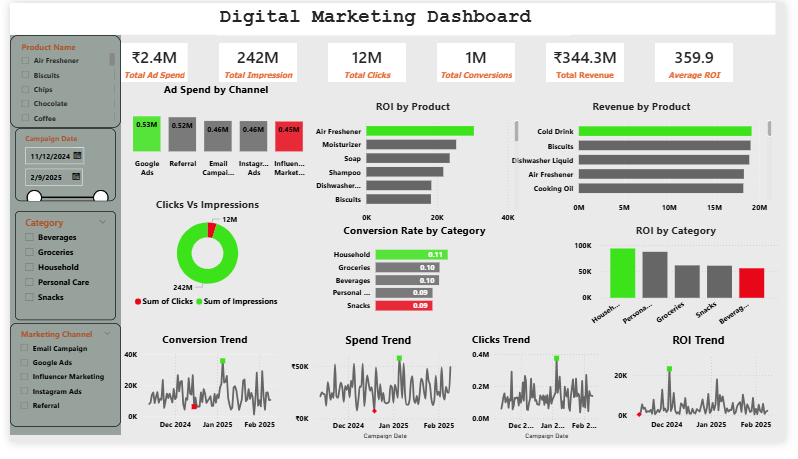

Layout of this report page (visuals, bound fields, positions):
{"tool":"powerbi","page":{"name":"Dashboard","canvas":[1293,732],"ordinal":0},"visuals":[{"type":"shape","box":[0,53.3,185,666.7],"z":0},{"type":"textbox","box":[310,0,563.3,53.3],"z":1000},{"type":"card","fields":{"Values":["Dataset.Total Impression"]},"box":[396.7,66.7,130,65],"z":2000},{"type":"card","fields":{"Values":["Dataset.Total Ad Spend"]},"box":[213.3,66.7,130,65],"z":3000},{"type":"card","fields":{"Values":["Dataset.Total Clicks"]},"box":[591.7,66.7,130,65],"z":4000},{"type":"card","fields":{"Values":["Dataset.Total Conversions"]},"box":[775,66.7,130,65],"z":5000},{"type":"card","fields":{"Values":["Dataset.Total Revenue"]},"box":[943.3,66.7,130,65],"z":6000},{"type":"card","fields":{"Values":["Dataset.Average ROI"]},"box":[1113.3,66.7,130,65],"z":7000},{"type":"clusteredColumnChart","title":"Ad Spend by Channel","fields":{"Category":["Dataset.Marketing Channel"],"Y":["Sum(Dataset.Ad Spend (INR))"]},"box":[191.7,148.3,363.3,166.7],"z":8000},{"type":"pieChart","title":"Clicks Vs Impressions","fields":{"Y":["Sum(Dataset.Clicks)","Sum(Dataset.Impressions)"]},"box":[958.3,351.7,310,181.7],"z":9000},{"type":"clusteredBarChart","fields":{"Category":["Dataset.Category"],"Y":["Dataset.Conversion Rate"]},"box":[618.3,351.7,351.7,160],"z":10000},{"type":"clusteredBarChart","title":"Revenue by Product","fields":{"Category":["Dataset.Product Name"],"Y":["Sum(Dataset.Revenue (INR))"]},"box":[191.7,351.7,410,176.7],"z":11000},{"type":"columnChart","title":"ROI by Category","fields":{"Category":["Dataset.Category"],"Y":["Sum(Dataset.ROI)"]},"box":[918.3,155,356.7,191.7],"z":12000},{"type":"clusteredBarChart","title":" ROI by Product ","fields":{"Y":["Sum(Dataset.ROI)"],"Category":["Dataset.Product Name"]},"box":[555,151.7,361.7,178.3],"z":13000},{"type":"lineChart","title":"Spend Trend","fields":{"Category":["Dataset.Campaign Date"],"Y":["Dataset.Total Ad Spend"]},"box":[463.3,571.7,276.7,148.3],"z":14000},{"type":"lineChart","title":"Conversion Trend","fields":{"Category":["Dataset.Campaign Date"],"Y":["Sum(Dataset.Conversions)"]},"box":[185,583.3,278.3,136.7],"z":15000},{"type":"lineChart","title":" ROI Trend","fields":{"Category":["Dataset.Campaign Date"],"Y":["Sum(Dataset.ROI)"]},"box":[1023.3,583.3,270,136.7],"z":16000},{"type":"lineChart","title":"Clicks Trend","fields":{"Category":["Dataset.Campaign Date"],"Y":["Sum(Dataset.Clicks)"]},"box":[761.7,571.7,261.7,148.3],"z":17000},{"type":"slicer","fields":{"Values":["Dataset.Campaign Date"]},"box":[8.3,241.7,168.3,138.3],"z":18000},{"type":"slicer","fields":{"Values":["Dataset.Product Name"]},"box":[0,86.7,185,155],"z":19000},{"type":"slicer","fields":{"Values":["Dataset.Category"]},"box":[8.3,386.7,168.3,141.7],"z":20000},{"type":"slicer","fields":{"Values":["Dataset.Marketing Channel"]},"box":[0,533.3,185,173.3],"z":21000},{"type":"textbox","box":[8.3,53.3,116.7,46.7],"z":22000}]}

Visuals, with their boxes in screenshot pixels (x1, y1, x2, y2), scaled from the page's 1293x732 canvas onto the 798x459 screenshot:
shape: [0, 33, 114, 451]
textbox: [191, 0, 539, 33]
card - Dataset.Total Impression: [245, 42, 325, 83]
card - Dataset.Total Ad Spend: [132, 42, 212, 83]
card - Dataset.Total Clicks: [365, 42, 445, 83]
card - Dataset.Total Conversions: [478, 42, 559, 83]
card - Dataset.Total Revenue: [582, 42, 662, 83]
card - Dataset.Average ROI: [687, 42, 767, 83]
"Ad Spend by Channel" clusteredColumnChart: [118, 93, 343, 198]
"Clicks Vs Impressions" pieChart: [591, 221, 783, 334]
clusteredBarChart - Dataset.Category x Dataset.Conversion Rate: [382, 221, 599, 321]
"Revenue by Product" clusteredBarChart: [118, 221, 371, 331]
"ROI by Category" columnChart: [567, 97, 787, 217]
" ROI by Product " clusteredBarChart: [343, 95, 566, 207]
"Spend Trend" lineChart: [286, 358, 457, 451]
"Conversion Trend" lineChart: [114, 366, 286, 451]
" ROI Trend" lineChart: [632, 366, 797, 451]
"Clicks Trend" lineChart: [470, 358, 632, 451]
slicer - Dataset.Campaign Date: [5, 152, 109, 238]
slicer - Dataset.Product Name: [0, 54, 114, 152]
slicer - Dataset.Category: [5, 242, 109, 331]
slicer - Dataset.Marketing Channel: [0, 334, 114, 443]
textbox: [5, 33, 77, 63]
